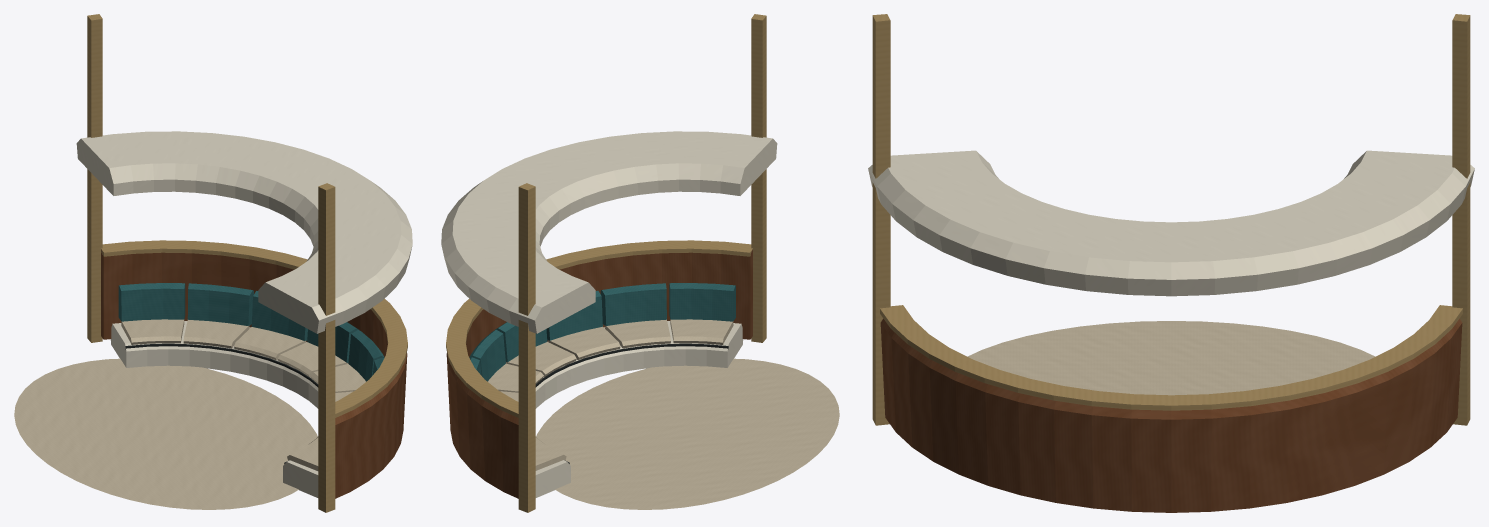
File: AST-SAL-008.glb
The picture shows the model from 3 angles, left to right: view 1: azimuth 30°, elevation 25°; view 2: azimuth 150°, elevation 25°; view 3: azimuth 270°, elevation 25°; orthographic projection. The views are drawn at different scales.
Visible parts, largest first — view 1: ALC_VisualFloorInlay, ALC_Canopy, ALC_AcousticBack, ALC_ProfiledSeatBase, ALC_Rib_78, ALC_BackCap, ALC_Rib_-78, ALC_BackCushion_0, ALC_BackCushion_1, ALC_Cushion_0, ALC_Cushion_1, ALC_Cushion_2 (+7 smaller); view 2: ALC_VisualFloorInlay, ALC_Canopy, ALC_AcousticBack, ALC_ProfiledSeatBase, ALC_Rib_-78, ALC_BackCap, ALC_Rib_78, ALC_BackCushion_7, ALC_BackCushion_6, ALC_Cushion_7, ALC_Cushion_6, ALC_Cushion_5 (+7 smaller); view 3: ALC_AcousticBack, ALC_Canopy, ALC_VisualFloorInlay, ALC_BackCap, ALC_Rib_-78, ALC_Rib_78.
Boxes of the visible parts, x1=… form: ALC_VisualFloorInlay: x1=14, y1=358, x2=317, y2=509; ALC_Canopy: x1=76, y1=131, x2=412, y2=333; ALC_AcousticBack: x1=101, y1=249, x2=407, y2=498; ALC_ProfiledSeatBase: x1=110, y1=321, x2=318, y2=497; ALC_Rib_78: x1=318, y1=183, x2=335, y2=512; ALC_BackCap: x1=101, y1=240, x2=407, y2=417; ALC_Rib_-78: x1=87, y1=14, x2=102, y2=342; ALC_BackCushion_0: x1=118, y1=283, x2=185, y2=321; ALC_BackCushion_1: x1=187, y1=283, x2=253, y2=325; ALC_Cushion_0: x1=121, y1=319, x2=184, y2=344; ALC_Cushion_1: x1=183, y1=320, x2=249, y2=348; ALC_Cushion_2: x1=234, y1=327, x2=306, y2=360; ALC_VisualFloorInlay: x1=536, y1=358, x2=839, y2=509; ALC_Canopy: x1=441, y1=131, x2=777, y2=333; ALC_AcousticBack: x1=446, y1=249, x2=752, y2=498; ALC_ProfiledSeatBase: x1=535, y1=321, x2=743, y2=497; ALC_Rib_-78: x1=518, y1=183, x2=535, y2=512; ALC_BackCap: x1=446, y1=240, x2=752, y2=417; ALC_Rib_78: x1=751, y1=14, x2=766, y2=342; ALC_BackCushion_7: x1=669, y1=283, x2=735, y2=321; ALC_BackCushion_6: x1=600, y1=283, x2=666, y2=325; ALC_Cushion_7: x1=670, y1=319, x2=733, y2=344; ALC_Cushion_6: x1=605, y1=319, x2=670, y2=348; ALC_Cushion_5: x1=548, y1=326, x2=620, y2=359; ALC_AcousticBack: x1=880, y1=318, x2=1462, y2=512; ALC_Canopy: x1=868, y1=150, x2=1474, y2=296; ALC_VisualFloorInlay: x1=967, y1=321, x2=1375, y2=395; ALC_BackCap: x1=880, y1=305, x2=1462, y2=410; ALC_Rib_-78: x1=1452, y1=14, x2=1470, y2=425; ALC_Rib_78: x1=872, y1=14, x2=890, y2=425.
Bounding box in the file's own units: 6.05 × 5.6 × 7.63.
7 materials, 6 textured.
